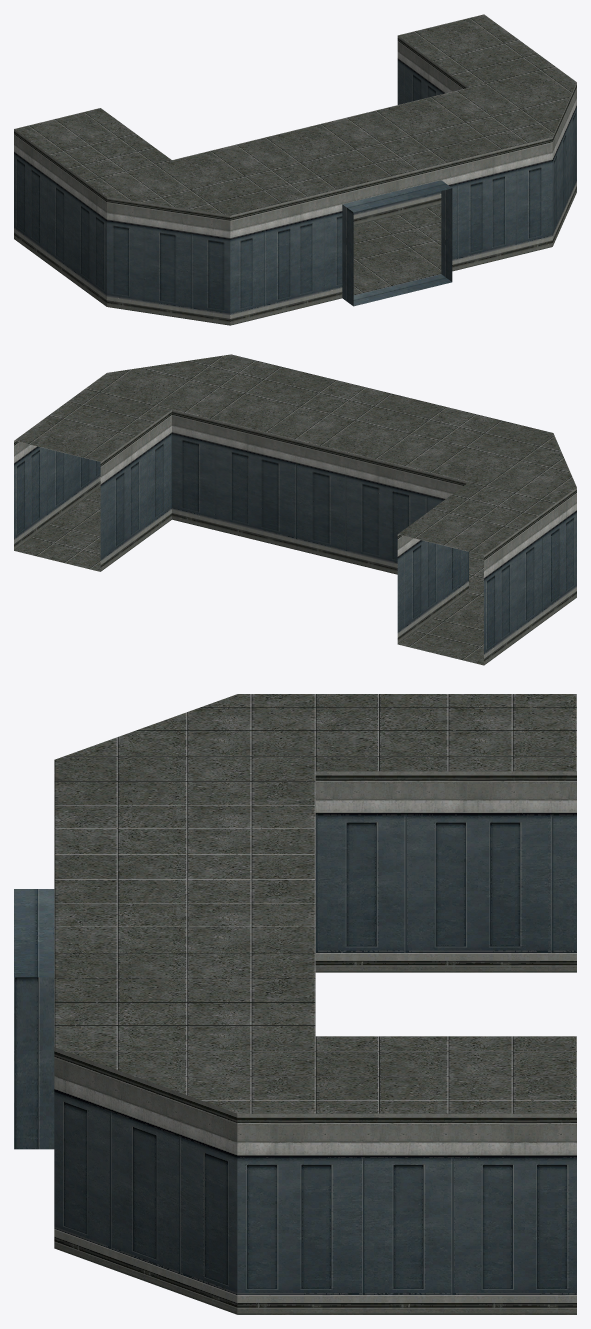
File: thm_corl_skyskraper_s04_r1_mesh_foyer0.fbx
3 renders of one model, top to bottom at view 1: azimuth 30°, elevation 25°; view 2: azimuth 150°, elevation 25°; view 3: azimuth 270°, elevation 25°, orthographic. The views are drawn at different scales.
Visible parts, largest first — view 1: mesh_node; view 2: mesh_node; view 3: mesh_node.
Part boxes in pixels (x1,y1,x2,y2): mesh_node: [14, 14, 576, 325]; mesh_node: [14, 354, 576, 665]; mesh_node: [14, 694, 576, 1314].
Bounding box in the file's own units: 19 × 4.25 × 10.77.
